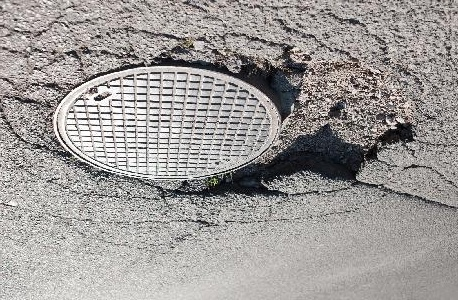pothole: (191, 49, 421, 205)
